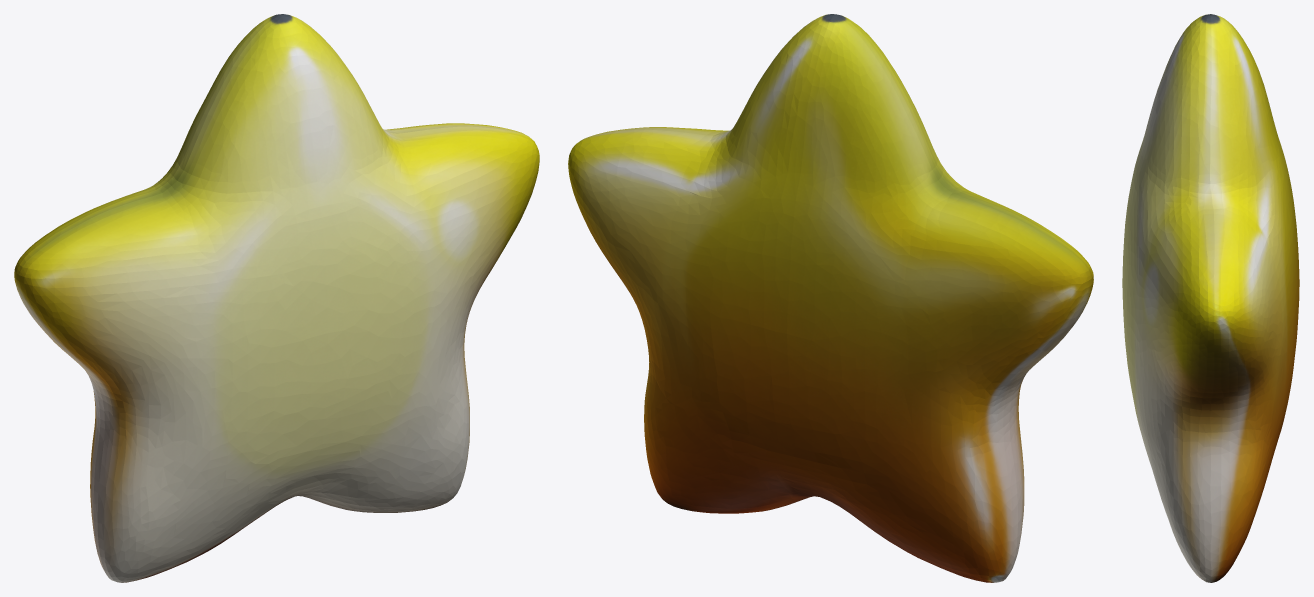
The model's file is rounded_star.glb.
The picture shows the model from 3 angles, left to right: view 1: azimuth 30°, elevation 25°; view 2: azimuth 150°, elevation 25°; view 3: azimuth 270°, elevation 25°; orthographic projection. The views are drawn at different scales.
Parts seen in each view (by area): view 1: world; view 2: world; view 3: world.
Part boxes in pixels (<box>): world: <box>14,14,539,582</box>; world: <box>568,14,1093,582</box>; world: <box>1122,14,1299,582</box>.
Bounding box in the file's own units: 0.9985 × 0.9711 × 0.3156.
Materials: 1 (1 with a texture image).
